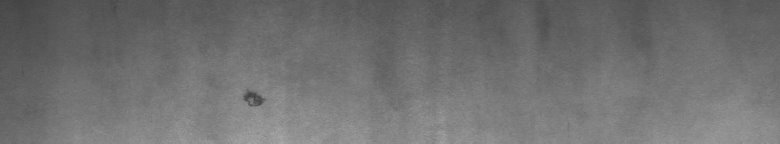fi: (239, 84, 268, 113)
